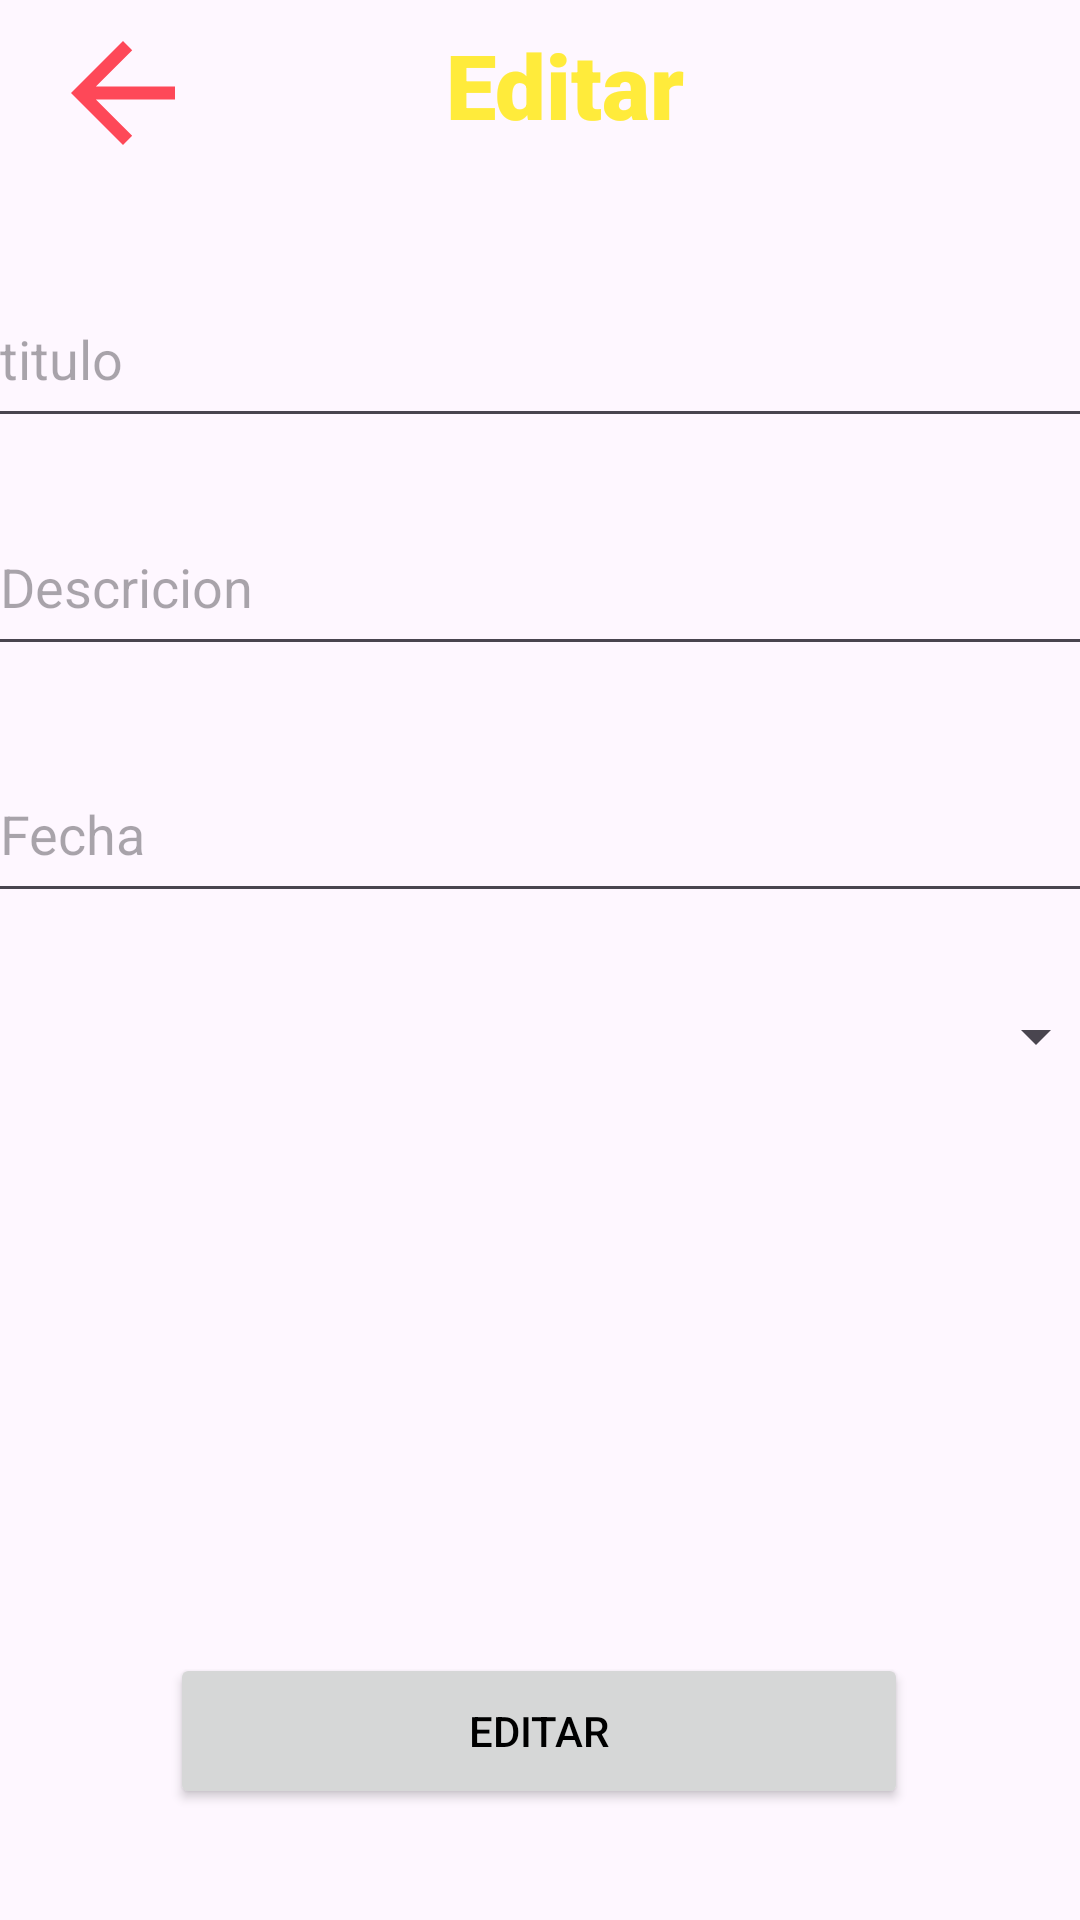

Screen size 1080w x 1920h. Icon name, then its box in pixels as (x1, y1, x2, y2):
arrow back: (71, 41, 175, 145)
